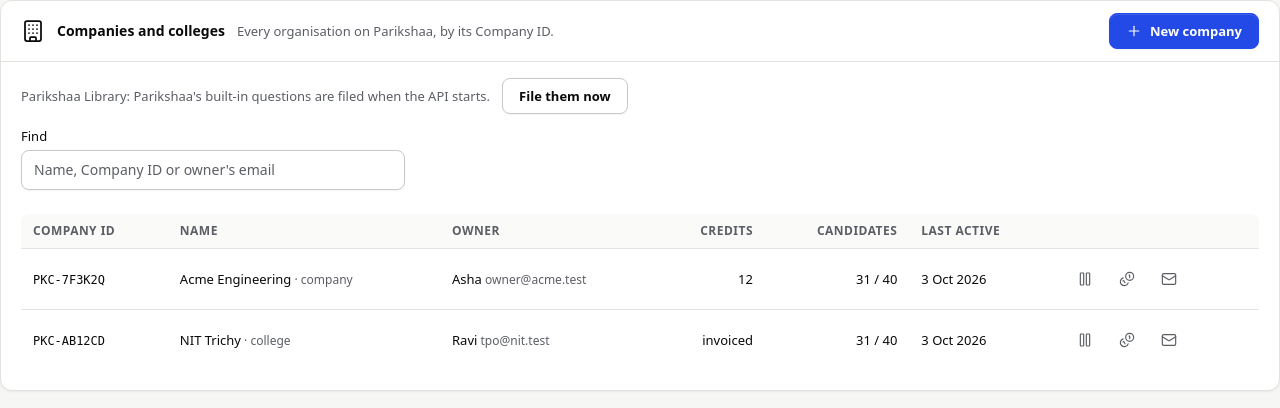
Test: the operator panel › lists every organisation by its Company ID, and finds one
Expected: the text "PKC-7F3K2Q" is shown, [33,273,105,287]
Expected: the row that starts with "PKC-AB12CD" shows "NIT Trichy · college", [21,310,1259,370]
Type "pkc-ab" into the field labelled "Find".
click(213, 170); type("pkc-ab")  # box [21,150,405,190]
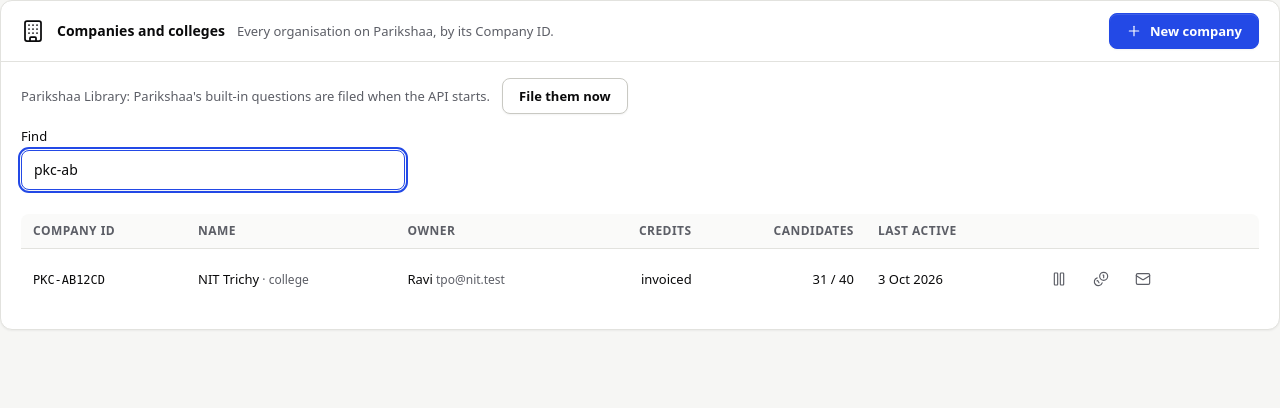
Expected: the text "NIT Trichy" is shown, [198,270,259,288]
Result: the text "Acme Engineering" is gone
